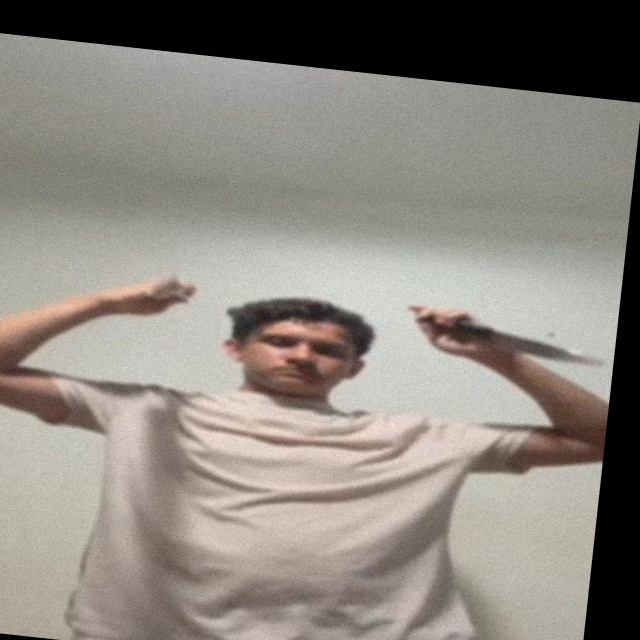Sharp-Object: (483, 328, 598, 365)
